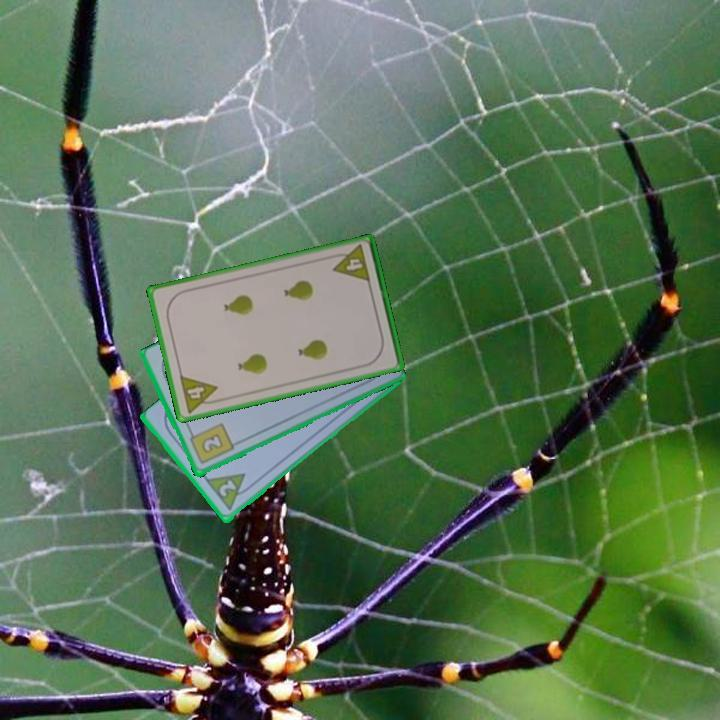2b: (186, 420, 236, 467)
2p: (203, 469, 256, 514)
4p: (176, 372, 223, 416), (327, 241, 373, 285)
